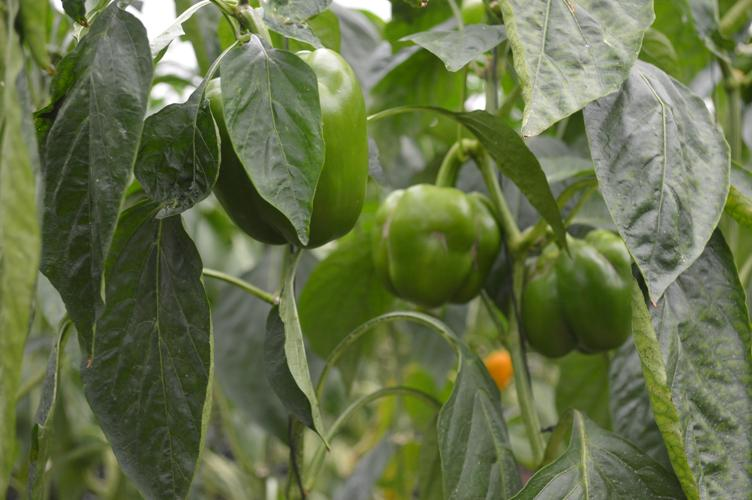BellPepper: (186, 49, 373, 257), (514, 221, 649, 369), (387, 167, 504, 312)
